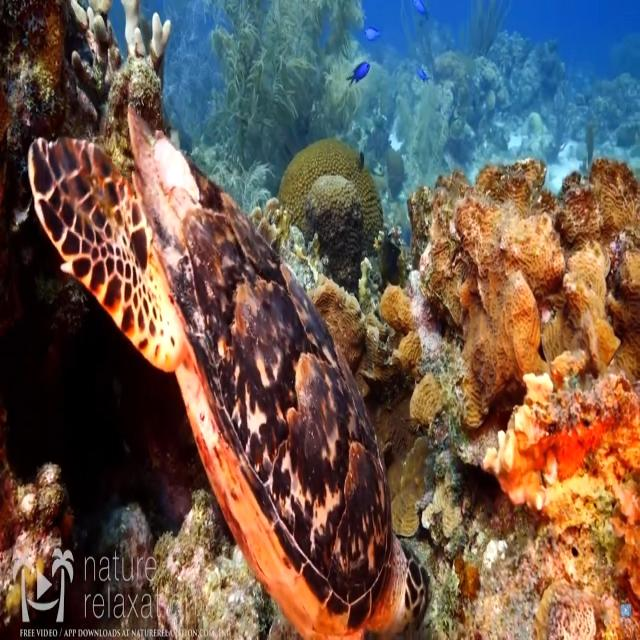Sea turtle: (19, 95, 433, 640)
